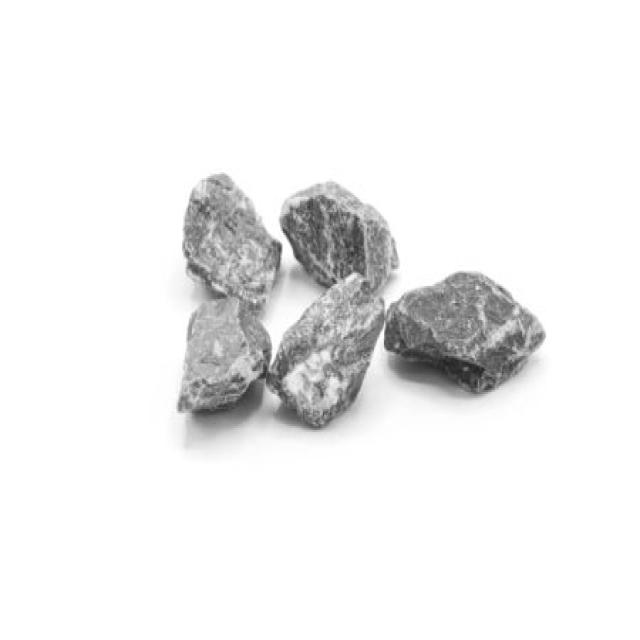Igneous: (153, 157, 554, 436)
